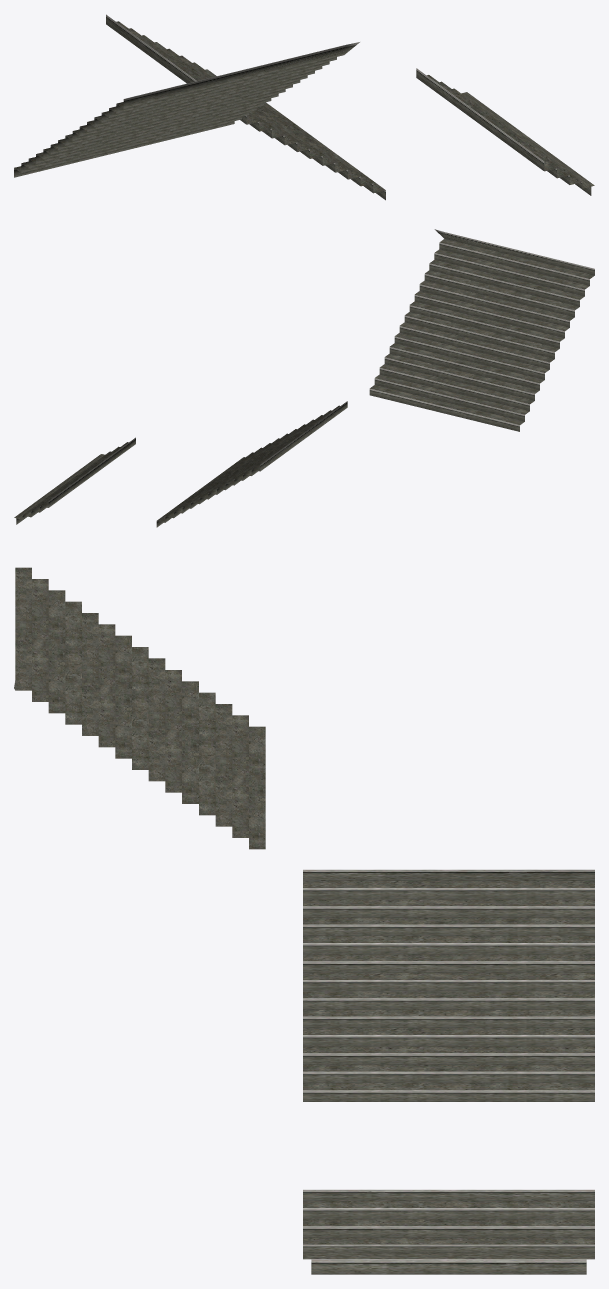
File: DWARF_PALACE_EREBORROOM_STAIRS01.fbx
3 views of the same model, one above another, from view 1: azimuth 30°, elevation 25°; view 2: azimuth 150°, elevation 25°; view 3: azimuth 270°, elevation 25° (orthographic). The views are drawn at different scales.
Parts seen in each view (by area): view 1: DWARF_PALACE_EREBORROOM_STAIRS01; view 2: DWARF_PALACE_EREBORROOM_STAIRS01; view 3: DWARF_PALACE_EREBORROOM_STAIRS01.
Boxes of the visible parts, x1,y1,x2,y2 form: DWARF_PALACE_EREBORROOM_STAIRS01: (14, 14, 594, 200); DWARF_PALACE_EREBORROOM_STAIRS01: (14, 229, 594, 527); DWARF_PALACE_EREBORROOM_STAIRS01: (14, 567, 594, 1274).
Bounding box in the file's own units: 188679 × 102000 × 139305.
Materials: 2 (2 with a texture image).
